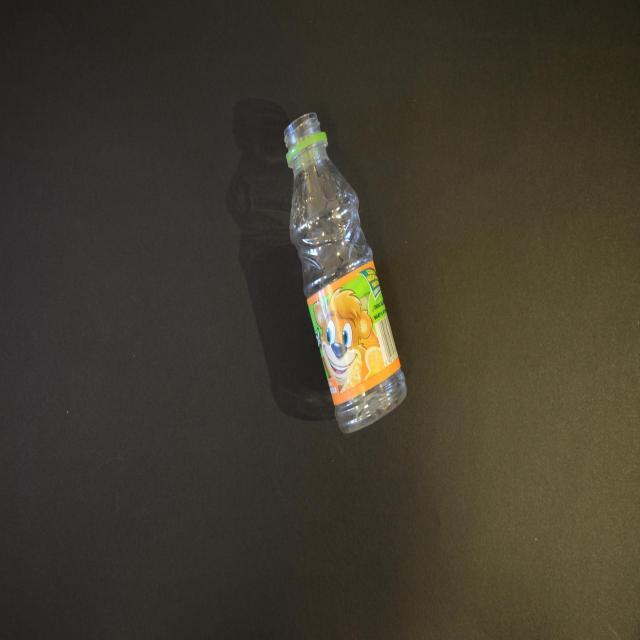plastic_bottle: (283, 112, 407, 433)
